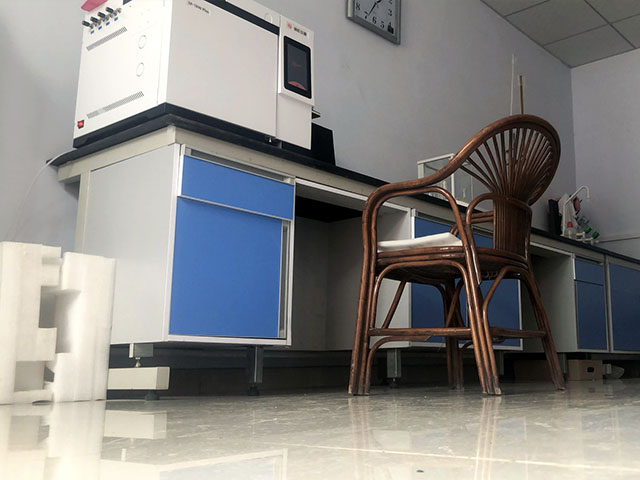cabinet: (43, 100, 315, 401), (557, 240, 640, 376)
stool: (350, 112, 563, 397)
